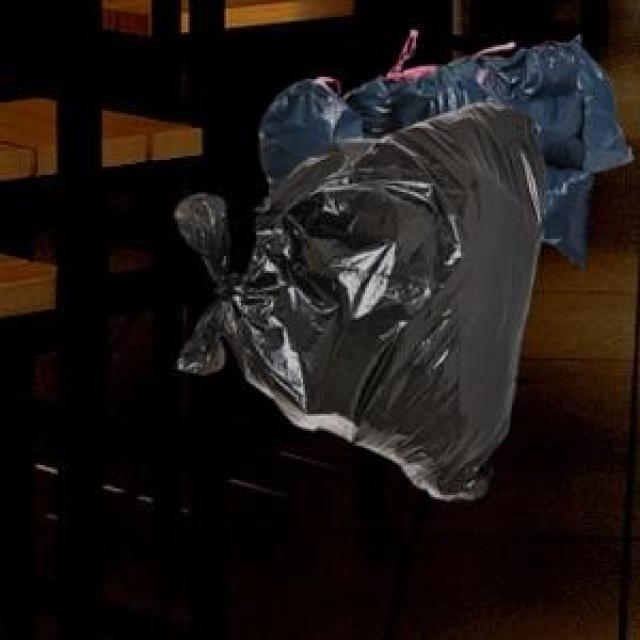Trashbag: (168, 95, 549, 508)
